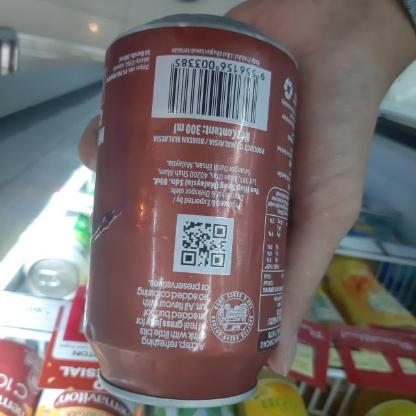Can: (86, 13, 298, 408)
